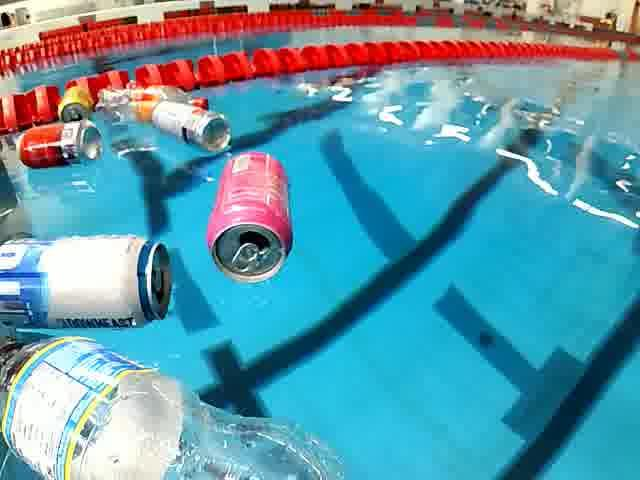Bottle: (2, 329, 354, 480), (90, 85, 210, 120)
Can: (0, 230, 178, 330), (149, 98, 237, 156), (8, 116, 106, 166), (48, 81, 98, 123)
